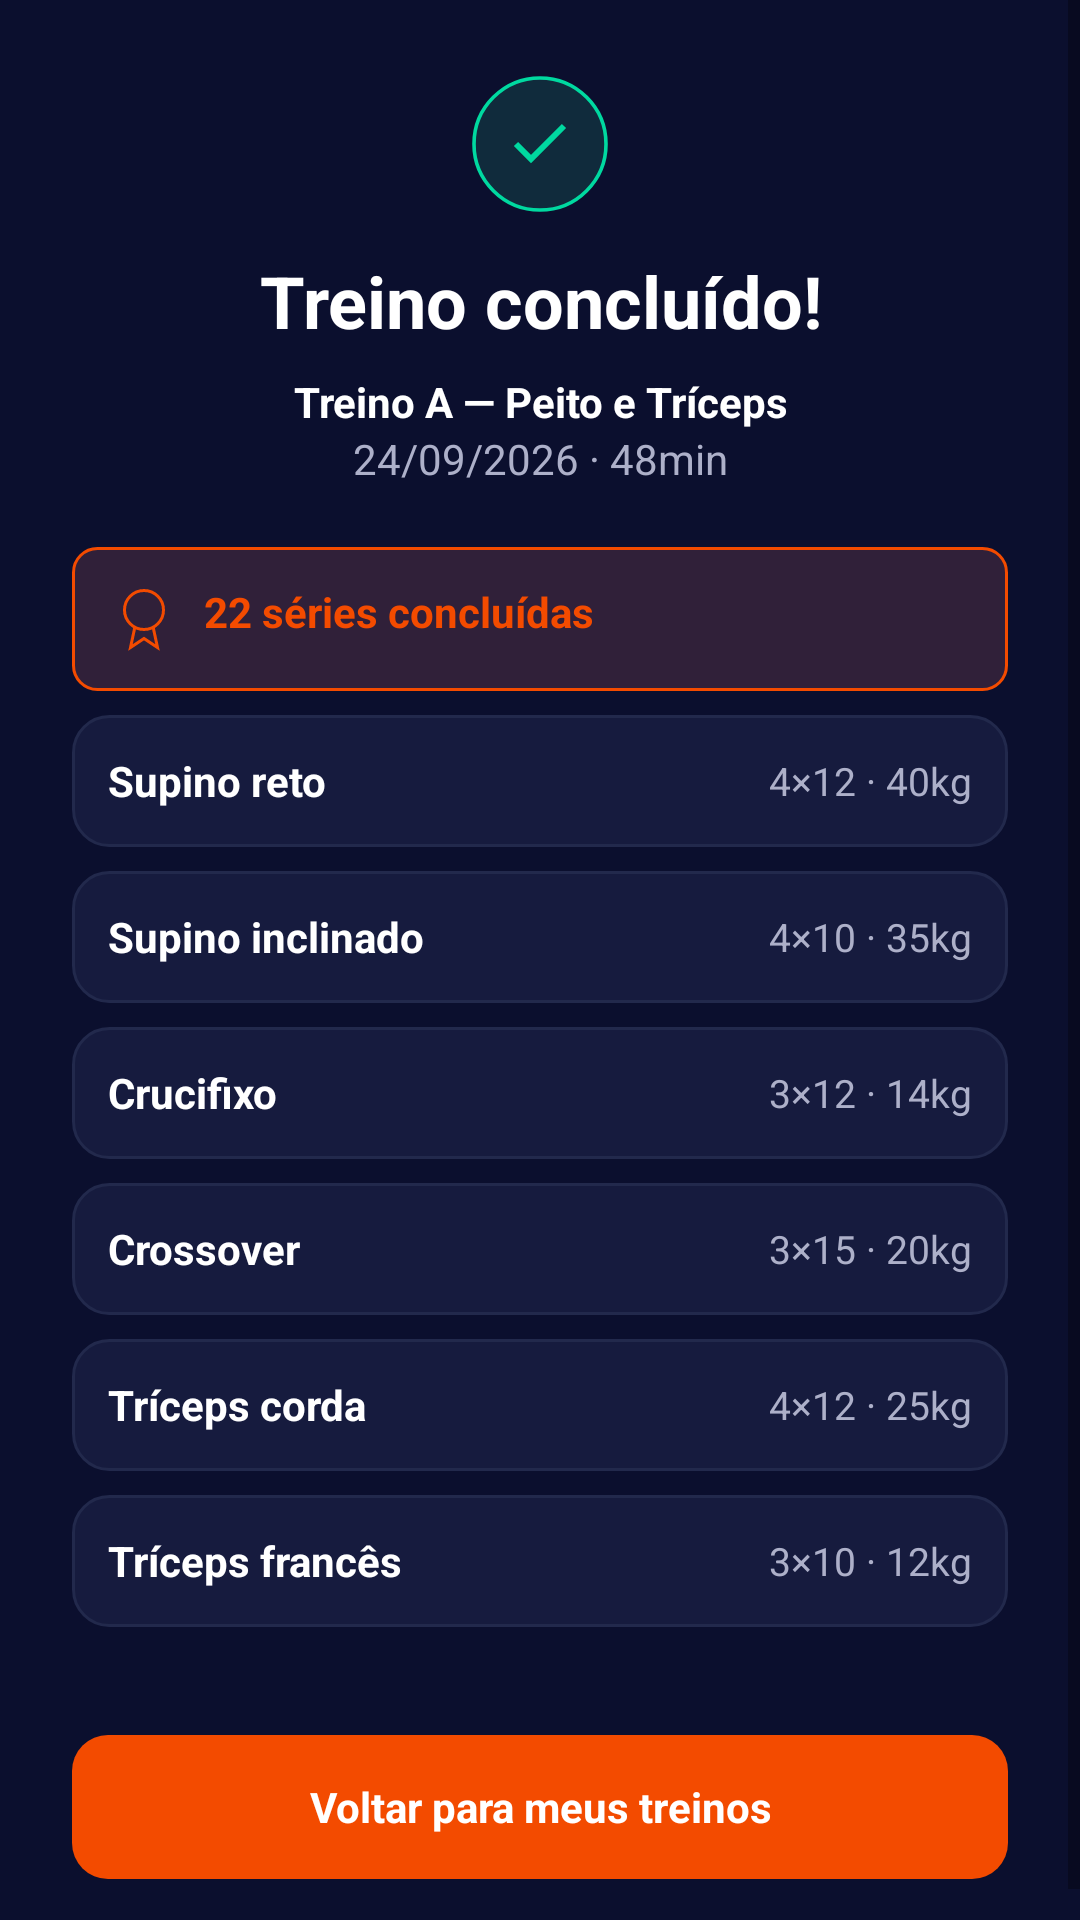

Named icons in this screenshot (1080*1920) and their bounding boxes, (x1, y1, x2, y2):
workout check: (472, 76, 608, 212)
